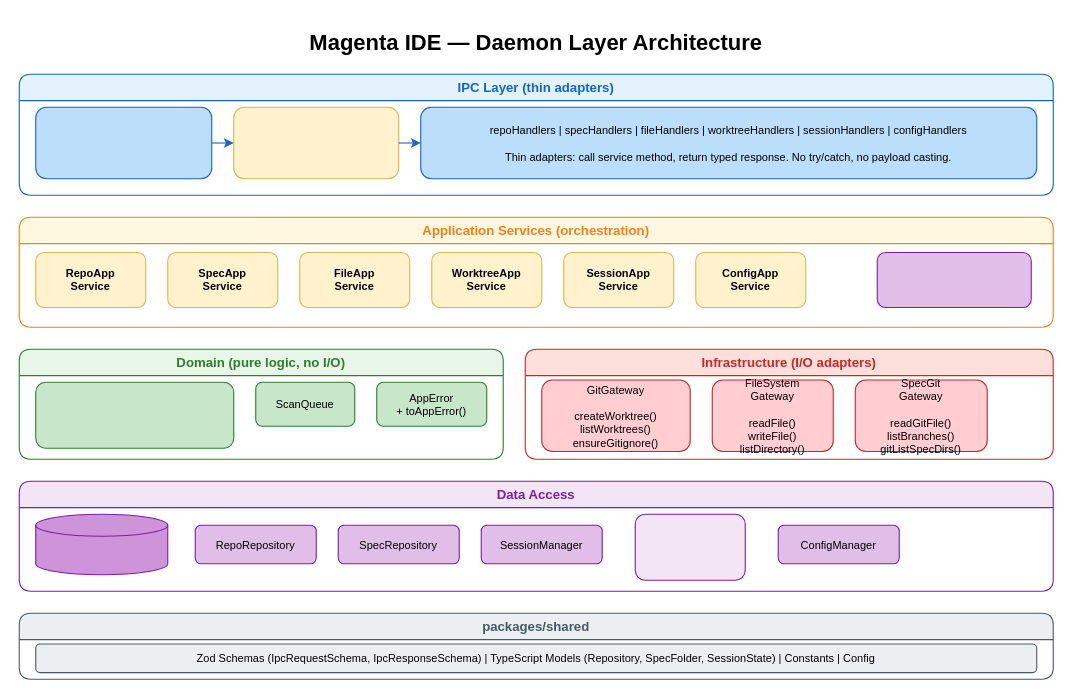
The diagram is 1073 pixels wide and 699 high, and some of its shapes have lost their labels. The centre of each missing label's shape, as x and y in pixels:
"createHandler() error normalization via toAppError()" goes at point (316, 142).
"DaemonContainer (composition root)" goes at point (953, 279).
"DatabaseService (sql.js WASM)" goes at point (101, 544).
"IPCBridge invoke(payload) validates with IpcRequestSchema" goes at point (123, 142).
"Mappers repoMapper sessionMapper" goes at point (689, 546).
"SpecParser parseTasksContent() parseApprovalMarker() parseImplementation()" goes at point (134, 414).
